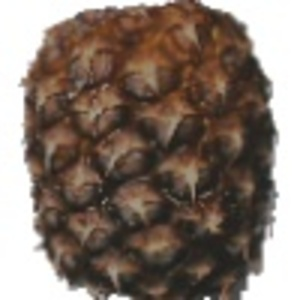abacaxi: (16, 2, 280, 293)
